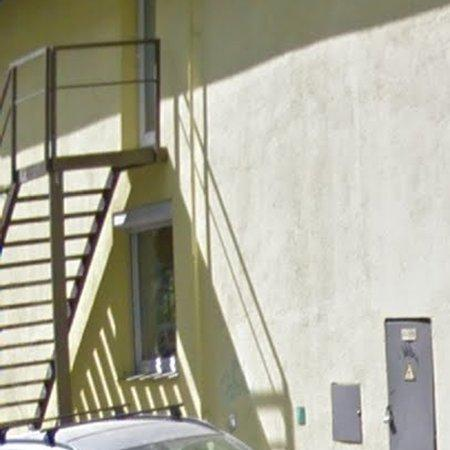stairs: (0, 39, 162, 428)
